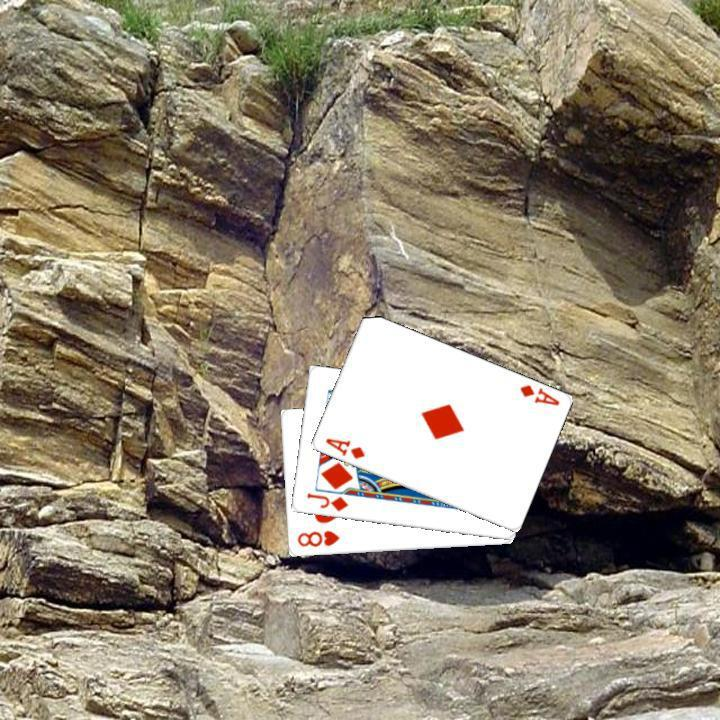8: (293, 526, 341, 549)
A: (515, 380, 561, 408), (321, 434, 367, 461)
J: (302, 488, 350, 514)
